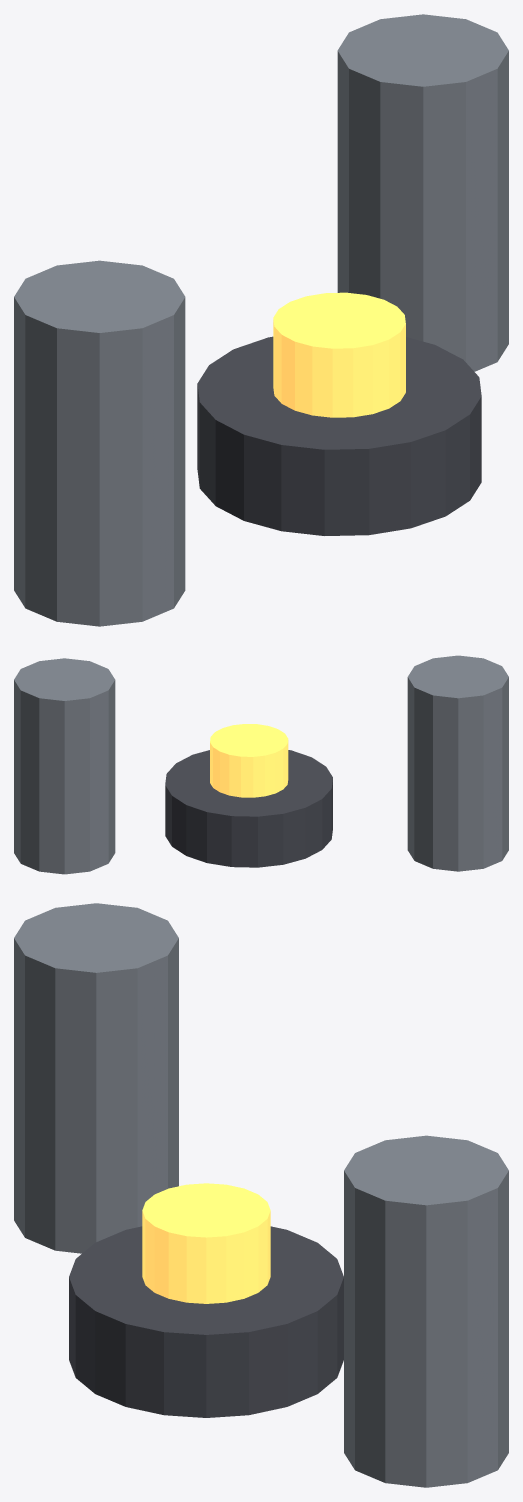
The model's file is table_details.glb.
3 renders of one model, top to bottom at view 1: azimuth 30°, elevation 25°; view 2: azimuth 150°, elevation 25°; view 3: azimuth 270°, elevation 25°, orthographic. The views are drawn at different scales.
Parts seen in each view (by area): view 1: table_details; view 2: table_details; view 3: table_details.
Boxes of the visible parts, box(x1,y1,x2,y2) form: table_details: box(14, 14, 508, 626); table_details: box(14, 655, 508, 874); table_details: box(14, 903, 508, 1487).
Bounding box in the file's own units: 0.39 × 0.17 × 0.27.
